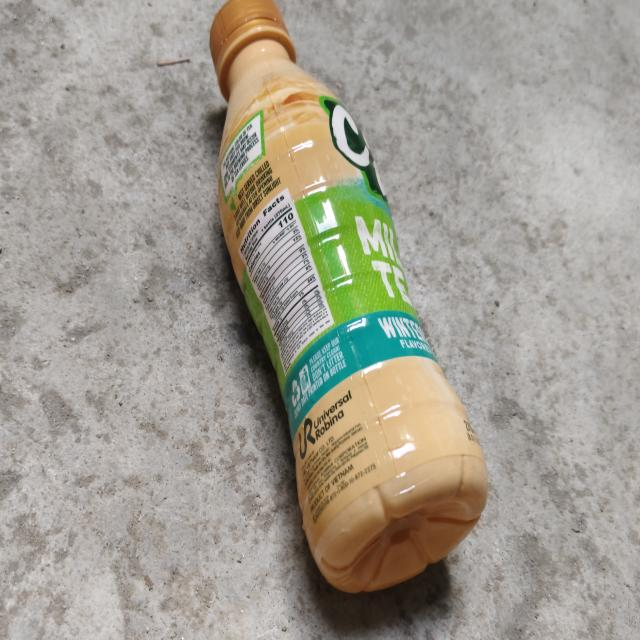Bottle: (210, 0, 488, 592)
